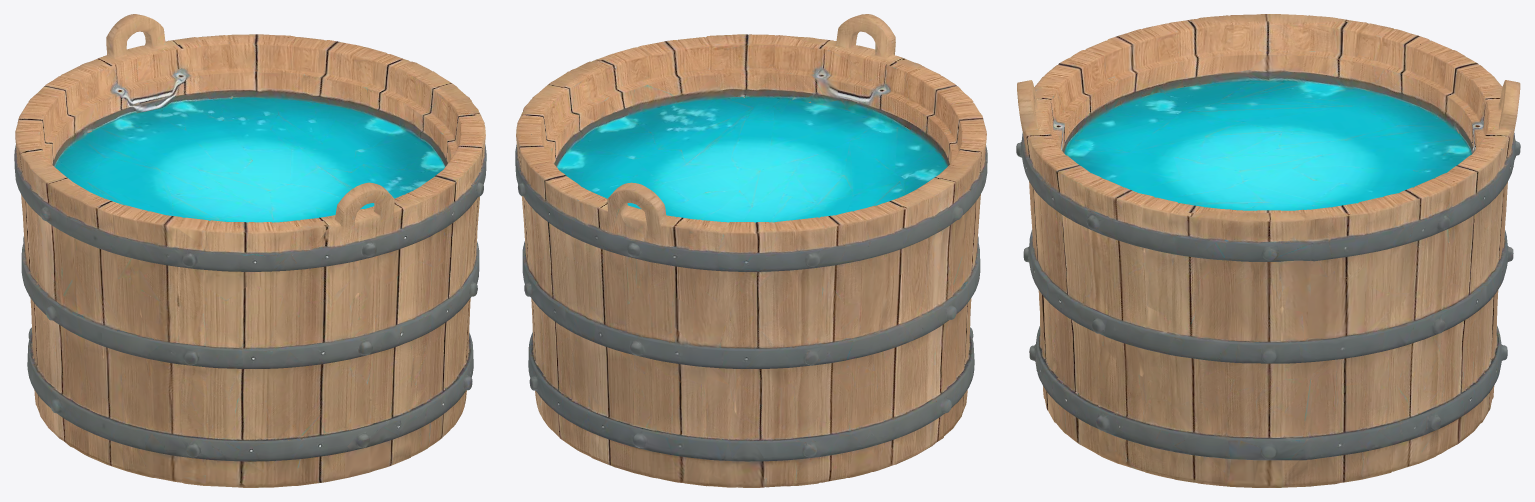
Rendered from water-bucket.glb.
The picture shows the model from 3 angles, left to right: view 1: azimuth 30°, elevation 25°; view 2: azimuth 150°, elevation 25°; view 3: azimuth 270°, elevation 25°; orthographic projection. The views are drawn at different scales.
Parts seen in each view (by area): view 1: Mesh_0; view 2: Mesh_0; view 3: Mesh_0.
Part boxes in pixels (box(x1,y1,x2,y2)): Mesh_0: box(14, 14, 486, 487); Mesh_0: box(515, 14, 987, 487); Mesh_0: box(1016, 14, 1520, 487).
Bounding box in the file's own units: 0.4103 × 0.28 × 0.4102.
Materials: 1 (1 with a texture image).
